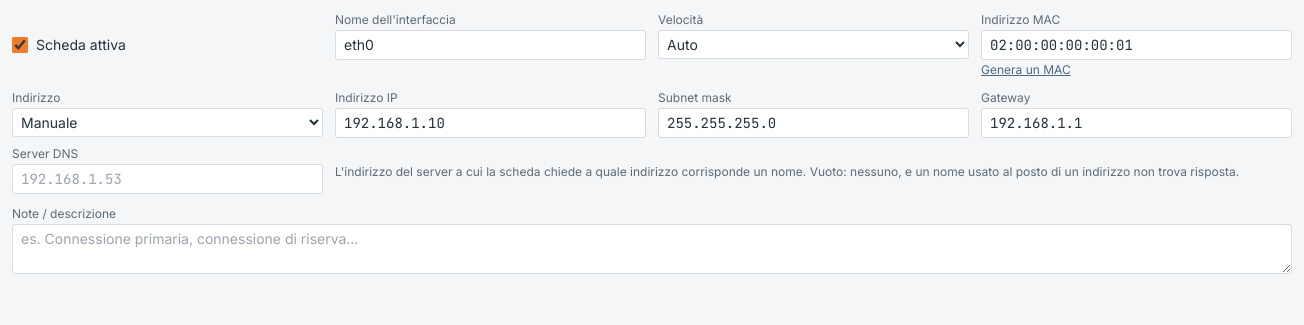
Test case: NicEditor — where the address comes from › says what is wrong with the DNS server under its field while it is typed
In the field labelled "Server DNS": [168, 179] box [12, 164, 323, 194], type "srv-auth"
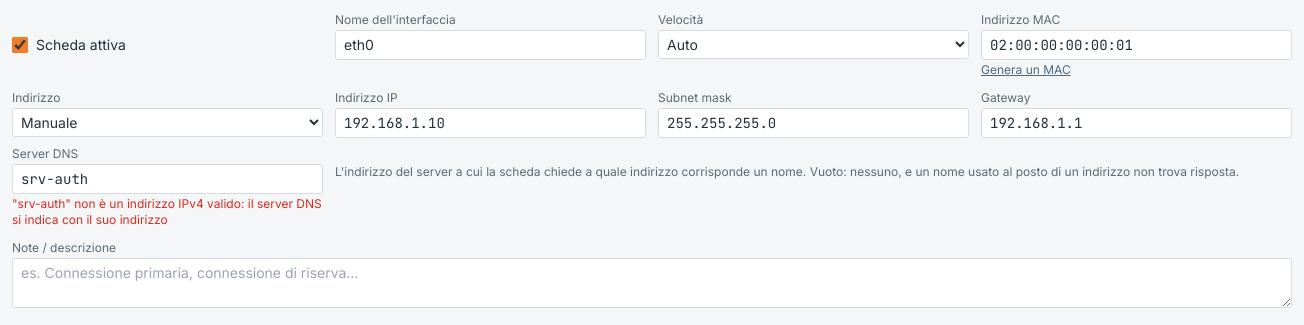
Result: the message shows "\"srv-auth\" non è un indirizzo IPv4 valido" at [12, 196, 322, 227]
Replace the text in the field labelled "Server DNS" with "192.168.1.53": [168, 179] box [12, 164, 323, 194]
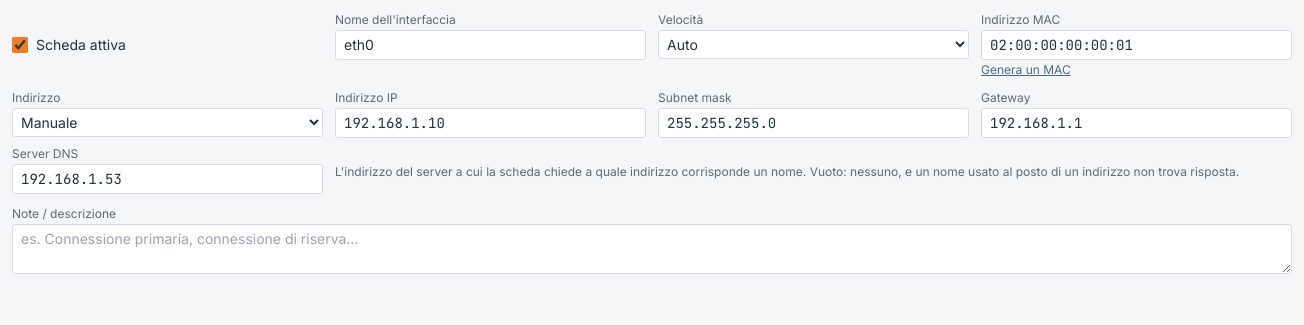
Result: the message is gone
